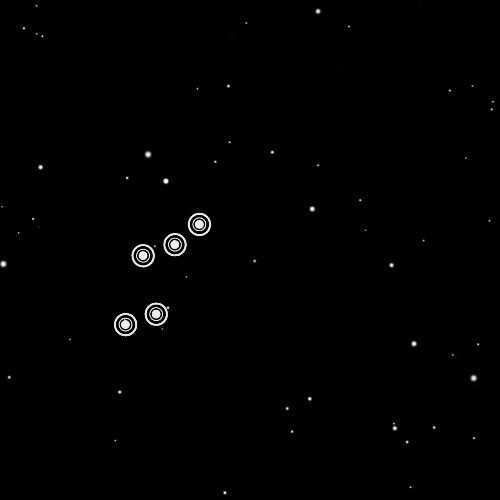lyra: (101, 201, 219, 348)
